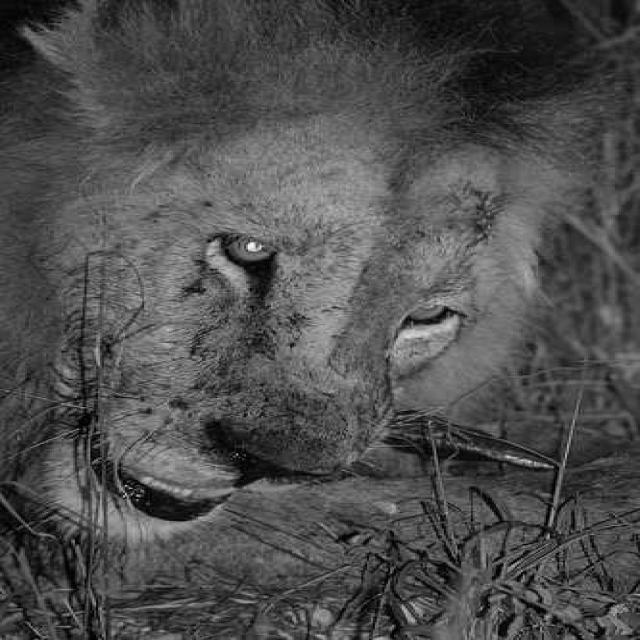Lion: (29, 10, 640, 640)
